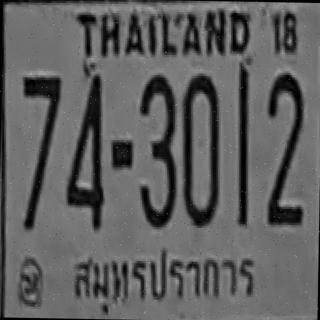N00: (180, 73, 220, 226), (180, 73, 220, 182)
N01: (236, 65, 249, 174)
N02: (265, 72, 304, 200), (265, 101, 304, 224)
N03: (136, 74, 178, 226)
N04: (64, 73, 106, 228)
N07: (21, 75, 61, 175), (22, 75, 60, 164)
P57: (63, 243, 259, 308)
